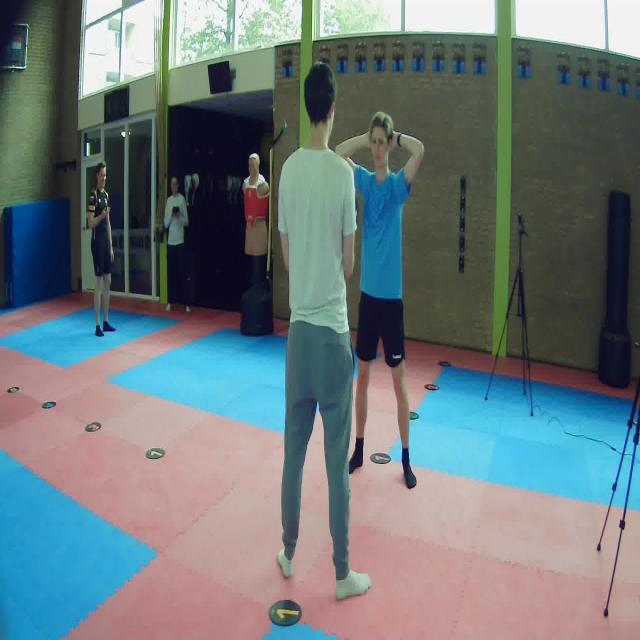paddle: (355, 188, 358, 232)
